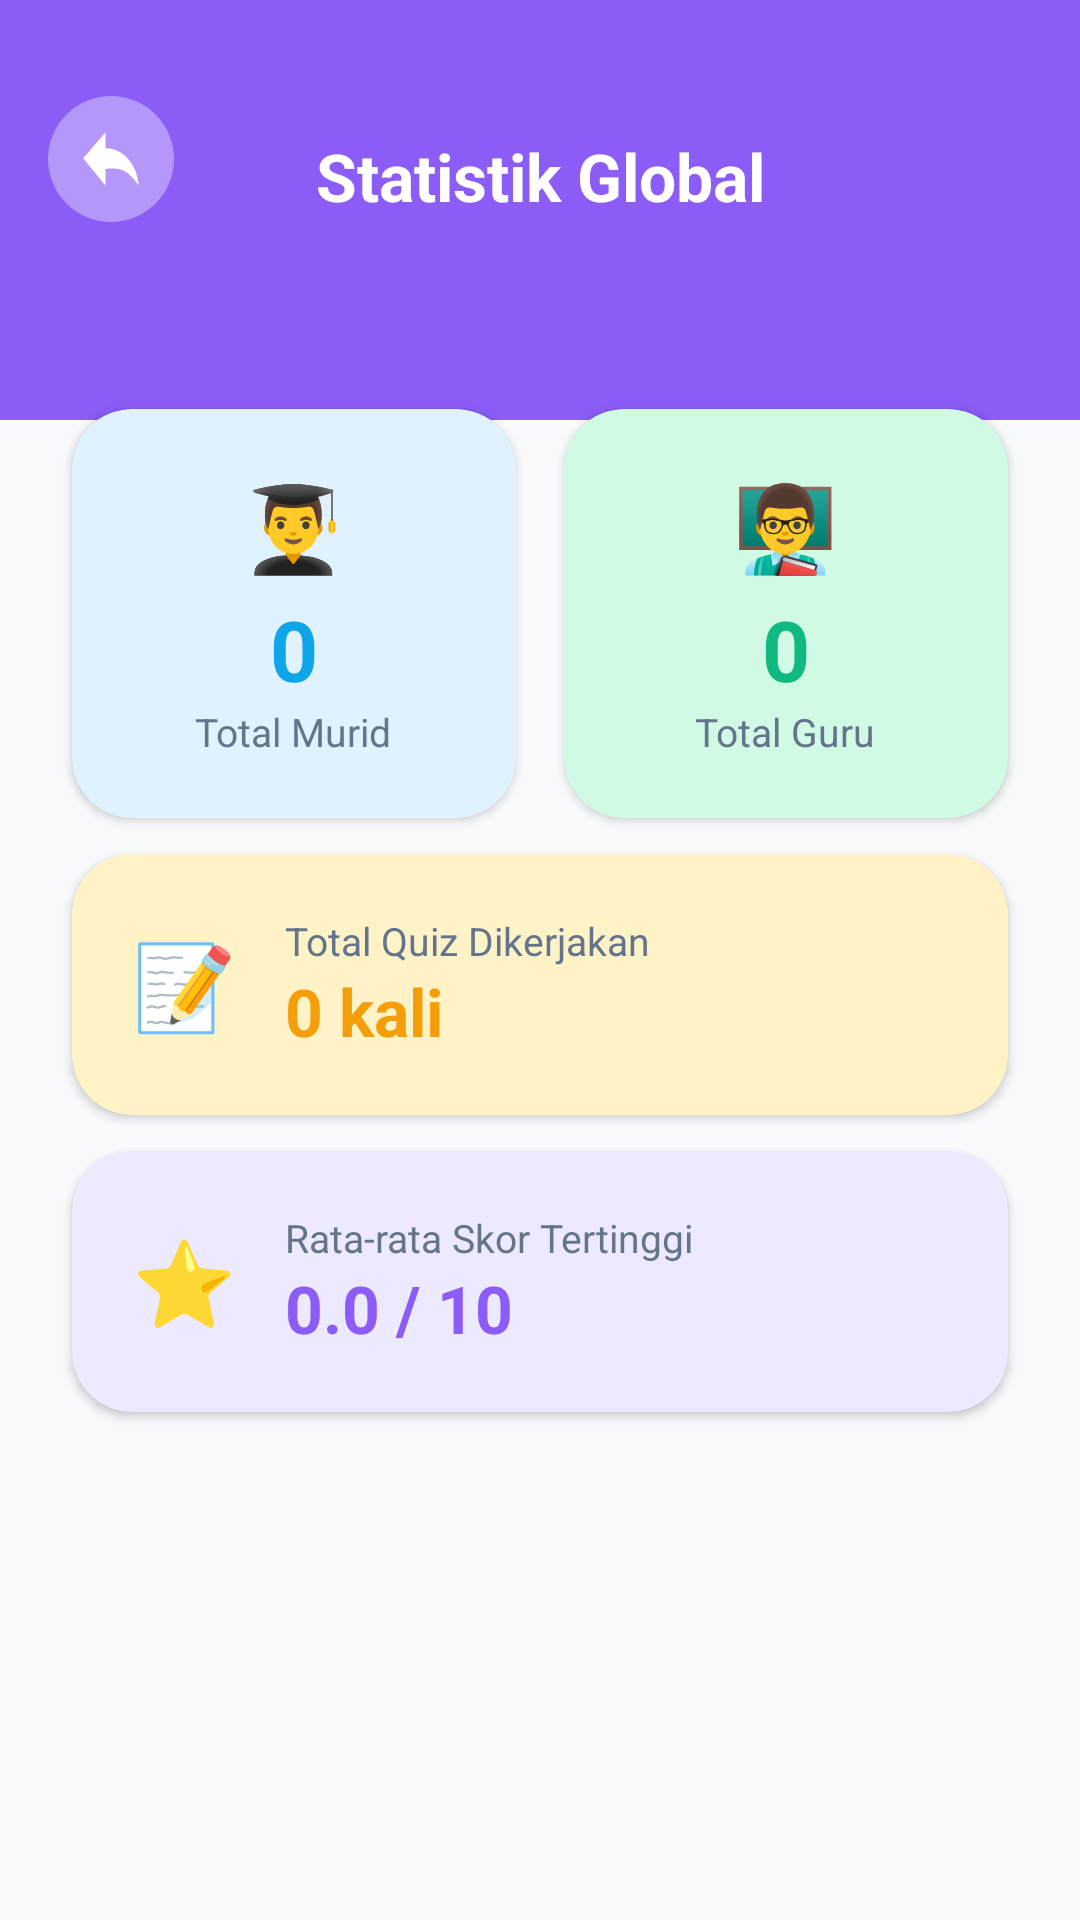

Named icons in this screenshot (1080w x 1920h) and their bounding boxes, box(x1, y1, x2, y2):
back: box(48, 96, 174, 222)
